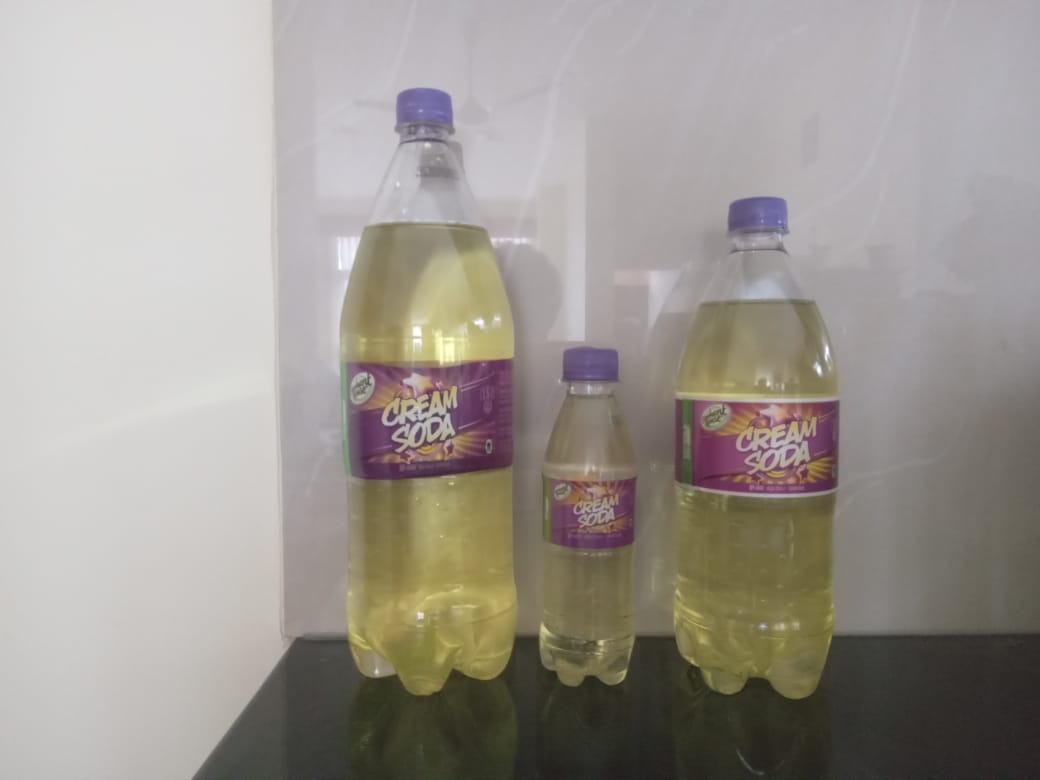L: (332, 88, 520, 707)
M: (662, 190, 847, 704)
Xs: (538, 343, 644, 696)
